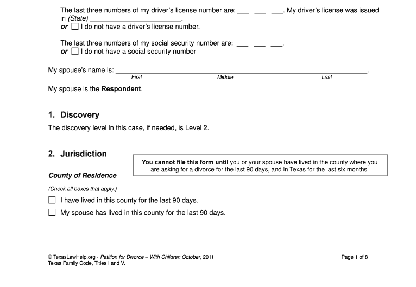checkbox: (47, 194, 56, 205), (47, 207, 56, 217), (71, 23, 79, 31), (71, 46, 79, 54)
textline: (115, 65, 370, 74), (89, 14, 182, 23), (236, 5, 250, 15), (253, 5, 267, 15), (270, 5, 284, 15), (270, 37, 284, 47), (253, 37, 267, 47), (235, 37, 249, 47)
